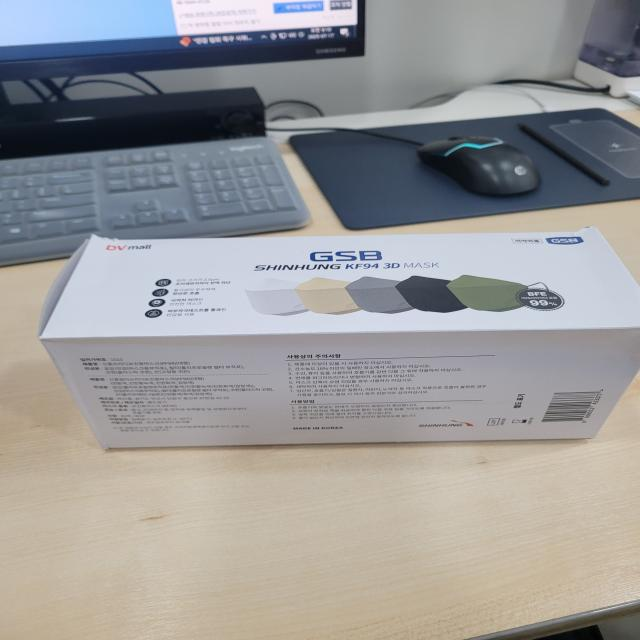mask: (39, 226, 640, 474)
